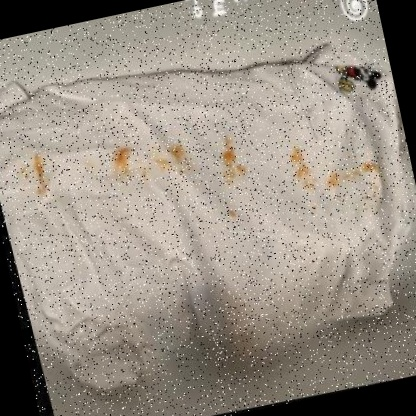kimchi: (290, 144, 387, 209), (98, 135, 199, 195), (208, 134, 255, 191), (13, 152, 53, 202), (281, 140, 314, 172), (223, 203, 245, 224)
